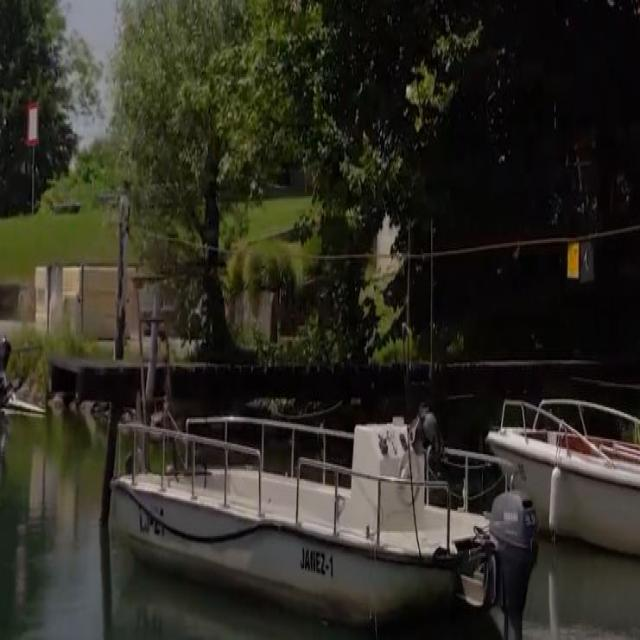boat: (104, 374, 540, 620)
